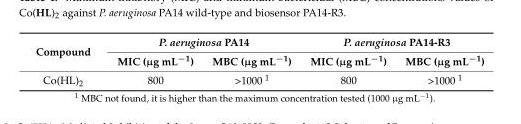table: (35, 35, 483, 87)
table column: (103, 35, 202, 87), (202, 35, 300, 87), (300, 35, 395, 87), (395, 35, 483, 87), (35, 35, 103, 87)
table column header: (35, 35, 483, 70)
table row: (35, 50, 483, 70), (35, 70, 483, 87), (35, 35, 483, 50)
table spanning cell: (103, 35, 300, 50), (300, 35, 483, 50), (35, 35, 103, 70)
